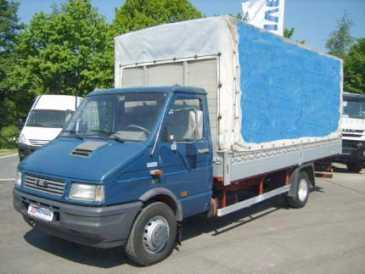truck: (13, 14, 344, 268)
